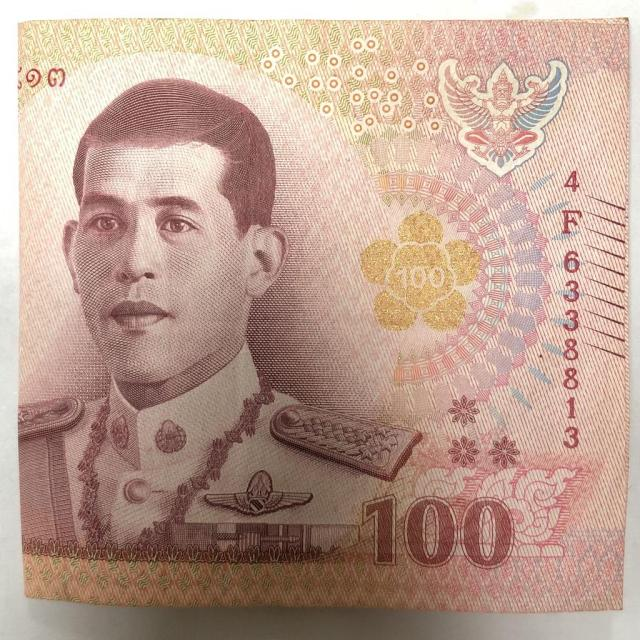THAI100: (13, 11, 632, 619)
